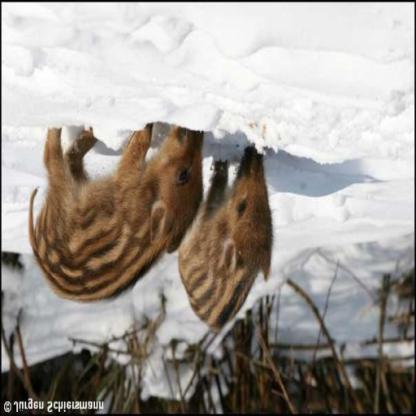boar: (2, 87, 199, 340), (181, 138, 309, 343)
